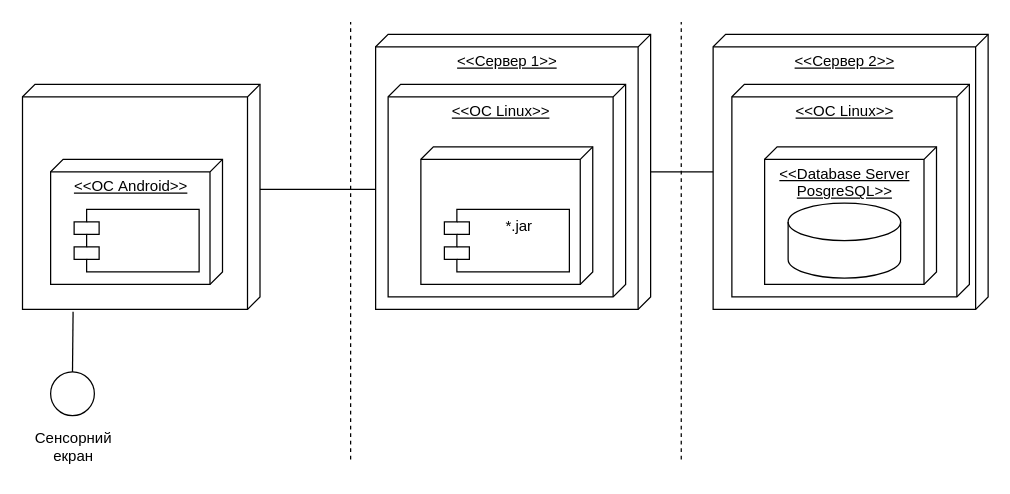
The diagram is 1010 pixels wide and 494 high, and some of its shapes have lost their labels. The box of each missing label's shape, as (x1, y1, x2, y2) in pixels:
*.apk (Android Studio): (73, 208, 199, 272)
<<Application Server Apache Tomcat>>: (420, 146, 593, 284)
<<Smartphone>>: (21, 83, 260, 309)
Relation DataBase: (787, 202, 901, 278)
